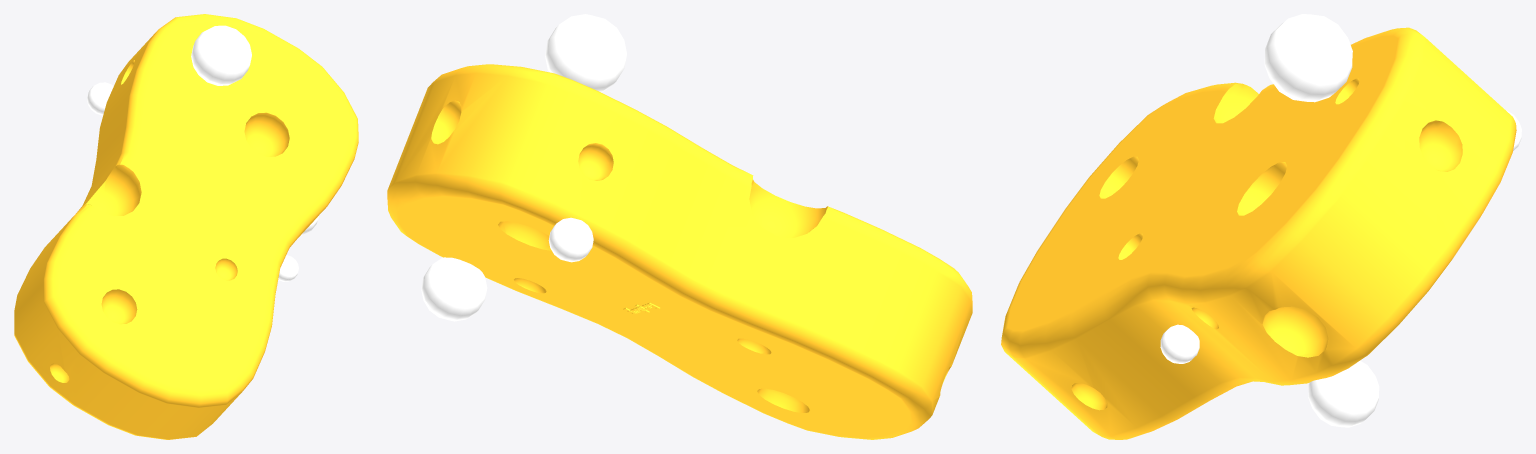
The model's file is sponge.glb.
3 views of the same model, side by side, from view 1: azimuth 30°, elevation 25°; view 2: azimuth 150°, elevation 25°; view 3: azimuth 270°, elevation 25° (orthographic). The views are drawn at different scales.
Visible parts, largest first — view 1: Cube.1018; view 2: Cube.1018; view 3: Cube.1018.
Boxes of the visible parts, box(x1,y1,x2,y2) form: Cube.1018: box(14, 14, 358, 439); Cube.1018: box(387, 14, 972, 439); Cube.1018: box(1001, 14, 1521, 439).
Size of the model in its own units: 2.26 by 2.05 by 1.98.
Materials: 1 (1 with a texture image).
